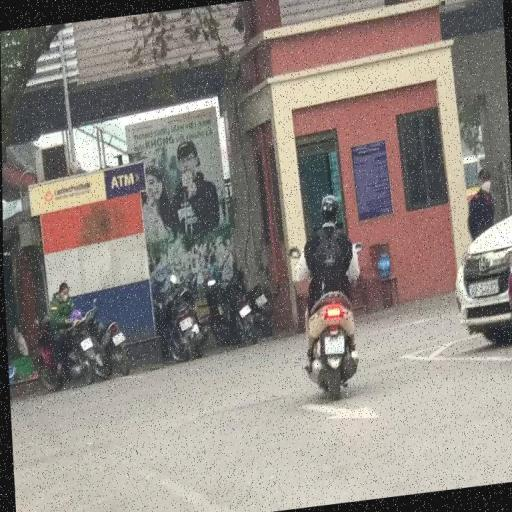bike: (288, 188, 370, 404)
numberplate: (321, 330, 346, 356), (110, 328, 128, 347), (254, 290, 268, 310), (177, 315, 191, 334), (78, 336, 94, 352), (237, 302, 251, 320)
with helmet: (317, 192, 339, 223)
